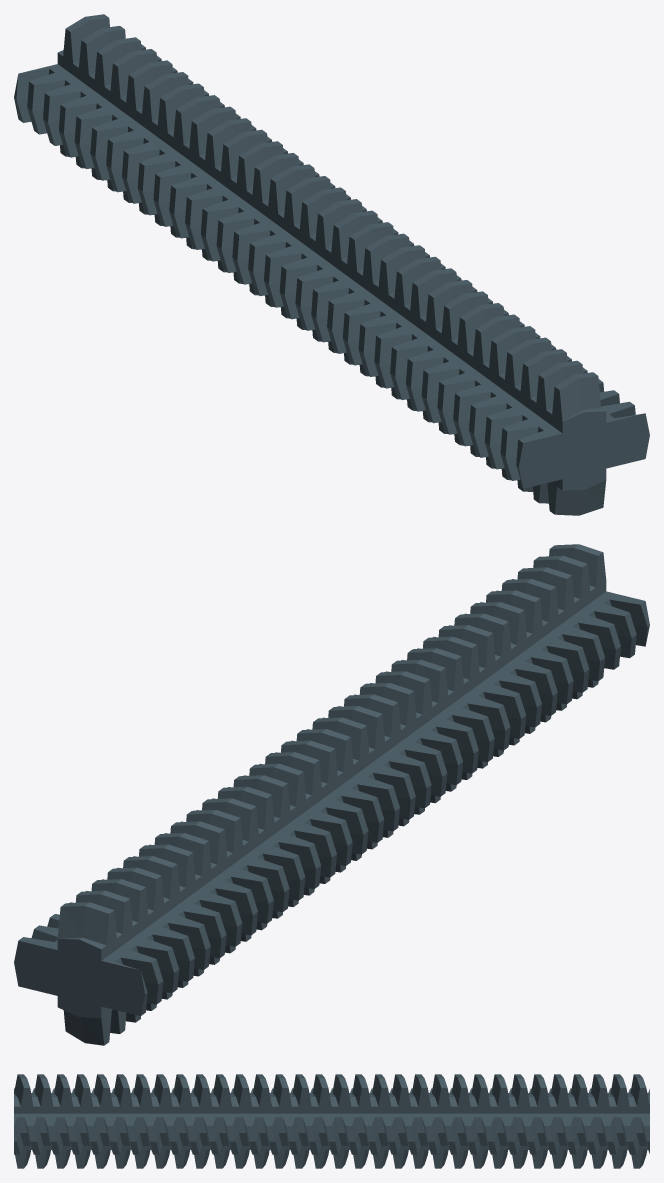
3 renders of one model, top to bottom at view 1: azimuth 30°, elevation 25°; view 2: azimuth 150°, elevation 25°; view 3: azimuth 270°, elevation 25°, orthographic. The views are drawn at different scales.
Visible parts, largest first — view 1: world; view 2: world; view 3: world.
Part boxes in pixels (x1,y1,x2,y2): world: (14, 14, 649, 515); world: (14, 544, 649, 1045); world: (14, 1074, 649, 1168).
Size of the model in its own units: 0.0048 by 0.0048 by 0.032.
